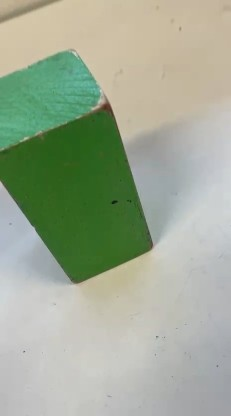green: (0, 48, 166, 299)
